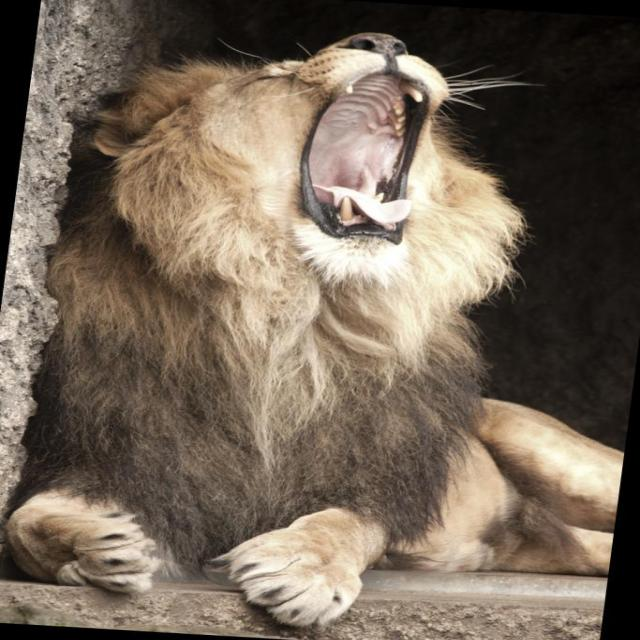Lion: (0, 13, 639, 639)
